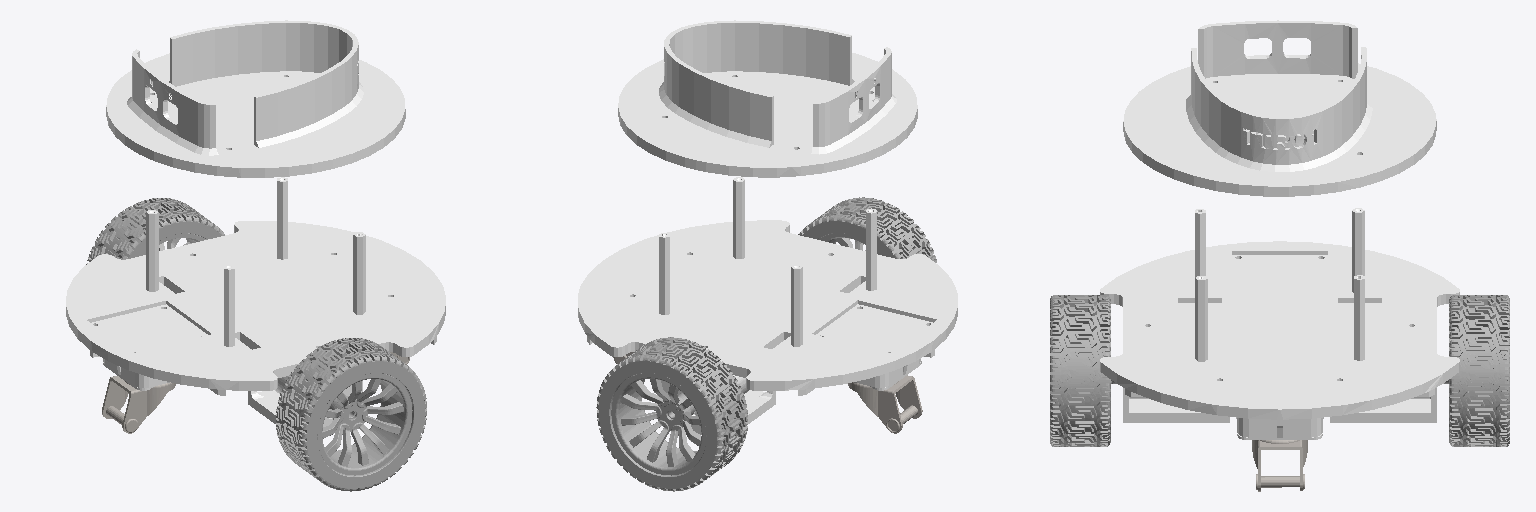
robot.urdf — TTR01:
<?xml version="1.0" encoding="utf-8"?>
<!-- This URDF was automatically created by SolidWorks to URDF Exporter! Originally created by [author] ([email redacted]) 
     Commit Version: 1.6.0-4-g7f85cfe  Build Version: 1.6.7995.38578
     For more information, please see http://wiki.ros.org/sw_urdf_exporter -->
<robot xmlns:xacro="http://www.ros.org/wiki/xacro" name="TTR01">

  <link
    name="base_link">
    <inertial>
      <origin
        xyz="0.00041523 3.8019E-10 -0.018258"
        rpy="0 0 0" />
      <mass
        value="0.68529" />
      <inertia
        ixx="0.00041086"
        ixy="-1.1043E-10"
        ixz="-2.371E-06"
        iyy="0.00051876"
        iyz="7.228E-12"
        izz="0.00084468" />
    </inertial>
    <visual>
      <origin
        xyz="0 0 0"
        rpy="0 0 0" />
      <geometry>
        <mesh
          filename="package://robot_pkg/meshes/base_link.STL" />
      </geometry>
      <material
        name="">
        <color
          rgba="1 1 1 1" />
      </material>
    </visual>
    <collision>
      <origin
        xyz="0 0 0"
        rpy="0 0 0" />
      <geometry>
        <mesh
          filename="package://robot_pkg/meshes/base_link.STL" />
      </geometry>
    </collision>
  </link>
  <link
    name="L_wheel_link">
    <inertial>
      <origin
        xyz="-5.629E-10 5.4357E-10 -0.015886"
        rpy="0 0 0" />
      <mass
        value="0.048724" />
      <inertia
        ixx="1.5816E-05"
        ixy="4.1458E-09"
        ixz="-1.7893E-13"
        iyy="1.5814E-05"
        iyz="1.7858E-13"
        izz="2.6155E-05" />
    </inertial>
    <visual>
      <origin
        xyz="0 0 0"
        rpy="0 0 0" />
      <geometry>
        <mesh
          filename="package://robot_pkg/meshes/L_wheel_link.STL" />
      </geometry>
      <material
        name="">
        <color
          rgba="0.75294 0.75294 0.75294 1" />
      </material>
    </visual>
    <collision>
      <origin
        xyz="0 0 0"
        rpy="0 0 0" />
      <geometry>
        <mesh
          filename="package://robot_pkg/meshes/L_wheel_link.STL" />
      </geometry>
    </collision>
  </link>
  <joint
    name="L_wheel_joint"
    type="continuous">
    <origin
      xyz="0 -0.071 -0.0225"
      rpy="-1.5708 0 0" />
    <parent
      link="base_link" />
    <child
      link="L_wheel_link" />
    <axis
      xyz="0 0 1" />
    <limit
      effort="0.323"
      velocity="10.47" />
  </joint>
  <link
    name="R_wheel_link">
    <inertial>
      <origin
        xyz="-4.8323E-10 -6.1547E-10 0.015886"
        rpy="0 0 0" />
      <mass
        value="0.048724" />
      <inertia
        ixx="1.5817E-05"
        ixy="-3.7851E-09"
        ixz="1.5281E-13"
        iyy="1.5813E-05"
        iyz="2.0138E-13"
        izz="2.6155E-05" />
    </inertial>
    <visual>
      <origin
        xyz="0 0 0"
        rpy="0 0 0" />
      <geometry>
        <mesh
          filename="package://robot_pkg/meshes/R_wheel_link.STL" />
      </geometry>
      <material
        name="">
        <color
          rgba="0.75294 0.75294 0.75294 1" />
      </material>
    </visual>
    <collision>
      <origin
        xyz="0 0 0"
        rpy="0 0 0" />
      <geometry>
        <mesh
          filename="package://robot_pkg/meshes/R_wheel_link.STL" />
      </geometry>
    </collision>
  </link>
  <joint
    name="R_wheel_joint"
    type="continuous">
    <origin
      xyz="0 0.071 -0.0225"
      rpy="-1.5708 0 0" />
    <parent
      link="base_link" />
    <child
      link="R_wheel_link" />
    <axis
      xyz="0 0 1" />
    <limit
      effort="0.323"
      velocity="10.47" />
  </joint>
  <link
    name="U_base_wheel_1_link">
    <inertial>
      <origin
        xyz="0.0041491 -8.4566E-05 0.0053957"
        rpy="0 0 0" />
      <mass
        value="0.009087" />
      <inertia
        ixx="5.254E-07"
        ixy="-4.3301E-10"
        ixz="-9.4848E-08"
        iyy="4.8759E-07"
        iyz="1.0854E-09"
        izz="7.6419E-07" />
    </inertial>
    <visual>
      <origin
        xyz="0 0 0"
        rpy="0 0 0" />
      <geometry>
        <mesh
          filename="package://robot_pkg/meshes/U_base_wheel_1_link.STL" />
      </geometry>
      <material
        name="">
        <color
          rgba="0.77647 0.75686 0.73725 1" />
      </material>
    </visual>
    <collision>
      <origin
        xyz="0 0 0"
        rpy="0 0 0" />
      <geometry>
        <mesh
          filename="package://robot_pkg/meshes/U_base_wheel_1_link.STL" />
      </geometry>
    </collision>
  </link>
  <joint
    name="U_base_wheel_1_joint"
    type="continuous">
    <origin
      xyz="0.057514 0 -0.0234"
      rpy="3.1416 0 0" />
    <parent
      link="base_link" />
    <child
      link="U_base_wheel_1_link" />
    <axis
      xyz="0 0 -1" />
    <limit
      effort="0.323"
      velocity="10.47" />
  </joint>
  <link
    name="U_wheel_1_link">
    <inertial>
      <origin
        xyz="0 0 0"
        rpy="0 0 0" />
      <mass
        value="0.0045951" />
      <inertia
        ixx="2.7312E-07"
        ixy="-2.2683E-23"
        ixz="-2.3051E-23"
        iyy="2.7312E-07"
        iyz="-8.8302E-23"
        izz="4.0127E-07" />
    </inertial>
    <visual>
      <origin
        xyz="0 0 0"
        rpy="0 0 0" />
      <geometry>
        <mesh
          filename="package://robot_pkg/meshes/U_wheel_1_link.STL" />
      </geometry>
      <material
        name="">
        <color
          rgba="1 1 1 1" />
      </material>
    </visual>
    <collision>
      <origin
        xyz="0 0 0"
        rpy="0 0 0" />
      <geometry>
        <mesh
          filename="package://robot_pkg/meshes/U_wheel_1_link.STL" />
      </geometry>
    </collision>
  </link>
  <joint
    name="U_wheel_1_joint"
    type="continuous">
    <origin
      xyz="0.015768 -0.00018037 0.019619"
      rpy="1.5822 -1.5708 0" />
    <parent
      link="U_base_wheel_1_link" />
    <child
      link="U_wheel_1_link" />
    <axis
      xyz="0 0 1" />
    <limit
      effort="0.323"
      velocity="10.47" />
  </joint>
  <link
    name="U_base_wheel_2_link">
    <inertial>
      <origin
        xyz="-0.0041491 8.4566E-05 0.0019957"
        rpy="0 0 0" />
      <mass
        value="0.009087" />
      <inertia
        ixx="5.254E-07"
        ixy="-4.3301E-10"
        ixz="9.4848E-08"
        iyy="4.8759E-07"
        iyz="-1.0854E-09"
        izz="7.6419E-07" />
    </inertial>
    <visual>
      <origin
        xyz="0 0 0"
        rpy="0 0 0" />
      <geometry>
        <mesh
          filename="package://robot_pkg/meshes/U_base_wheel_2_link.STL" />
      </geometry>
      <material
        name="">
        <color
          rgba="0.77647 0.75686 0.73725 1" />
      </material>
    </visual>
    <collision>
      <origin
        xyz="0 0 0"
        rpy="0 0 0" />
      <geometry>
        <mesh
          filename="package://robot_pkg/meshes/U_base_wheel_2_link.STL" />
      </geometry>
    </collision>
  </link>
  <joint
    name="U_base_wheel_2_joint"
    type="continuous">
    <origin
      xyz="-0.057514 0 -0.0268"
      rpy="3.1416 0 0" />
    <parent
      link="base_link" />
    <child
      link="U_base_wheel_2_link" />
    <axis
      xyz="0 0 -1" />
    <limit
      effort="0.323"
      velocity="10.47" />
  </joint>
  <link
    name="U_wheel_2_link">
    <inertial>
      <origin
        xyz="0 1.3878E-17 -8.6736E-19"
        rpy="0 0 0" />
      <mass
        value="0.0045951" />
      <inertia
        ixx="2.7312E-07"
        ixy="4.1047E-23"
        ixz="1.9175E-23"
        iyy="2.7312E-07"
        iyz="-7.2378E-23"
        izz="4.0127E-07" />
    </inertial>
    <visual>
      <origin
        xyz="0 0 0"
        rpy="0 0 0" />
      <geometry>
        <mesh
          filename="package://robot_pkg/meshes/U_wheel_2_link.STL" />
      </geometry>
      <material
        name="">
        <color
          rgba="1 1 1 1" />
      </material>
    </visual>
    <collision>
      <origin
        xyz="0 0 0"
        rpy="0 0 0" />
      <geometry>
        <mesh
          filename="package://robot_pkg/meshes/U_wheel_2_link.STL" />
      </geometry>
    </collision>
  </link>
  <joint
    name="U_wheel_2_joint"
    type="continuous">
    <origin
      xyz="-0.015768 0.00018037 0.016219"
      rpy="1.5822 -1.5708 0" />
    <parent
      link="U_base_wheel_2_link" />
    <child
      link="U_wheel_2_link" />
    <axis
      xyz="0 0 1" />
    <limit
      effort="0.323"
      velocity="10.47" />
  </joint>
  <link
    name="Support_A_link">
    <inertial>
      <origin
        xyz="0 0 0"
        rpy="0 0 0" />
      <mass
        value="0" />
      <inertia
        ixx="0"
        ixy="0"
        ixz="0"
        iyy="0"
        iyz="0"
        izz="0" />
    </inertial>
    <visual>
      <origin
        xyz="0 0 0"
        rpy="0 0 0" />
      <geometry>
        <mesh
          filename="package://robot_pkg/meshes/Support_A_link.STL" />
      </geometry>
      <material
        name="">
        <color
          rgba="1 1 1 1" />
      </material>
    </visual>
    <collision>
      <origin
        xyz="0 0 0"
        rpy="0 0 0" />
      <geometry>
        <mesh
          filename="package://robot_pkg/meshes/Support_A_link.STL" />
      </geometry>
    </collision>
  </link>
  <joint
    name="Support_A_joint"
    type="fixed">
    <origin
      xyz="0 0 0.02"
      rpy="0 0 0" />
    <parent
      link="base_link" />
    <child
      link="Support_A_link" />
    <axis
      xyz="0 0 0" />
  </joint>
  <link
    name="M_base_link">
    <inertial>
      <origin
        xyz="2.0673E-17 0.00022336 -0.0025145"
        rpy="0 0 0" />
      <mass
        value="0.058516" />
      <inertia
        ixx="9.721E-05"
        ixy="1.6542E-21"
        ixz="3.1135E-22"
        iyy="9.3239E-05"
        iyz="-5.8008E-09"
        izz="0.0001902" />
    </inertial>
    <visual>
      <origin
        xyz="0 0 0"
        rpy="0 0 0" />
      <geometry>
        <mesh
          filename="package://robot_pkg/meshes/M_base_link.STL" />
      </geometry>
      <material
        name="">
        <color
          rgba="0.11373 0.11373 0.11373 1" />
      </material>
    </visual>
    <collision>
      <origin
        xyz="0 0 0"
        rpy="0 0 0" />
      <geometry>
        <mesh
          filename="package://robot_pkg/meshes/M_base_link.STL" />
      </geometry>
    </collision>
  </link>
  <joint
    name="M_base_joint"
    type="fixed">
    <origin
      xyz="0 0 0.025"
      rpy="0 0 0" />
    <parent
      link="Support_A_link" />
    <child
      link="M_base_link" />
    <axis
      xyz="0 0 0" />
  </joint>
  <link
    name="Support_B_link">
    <inertial>
      <origin
        xyz="-0.011902 0.011666 -0.0036221"
        rpy="0 0 0" />
      <mass
        value="0.02878" />
      <inertia
        ixx="1.1292E-06"
        ixy="-1.0751E-12"
        ixz="2.9227E-11"
        iyy="1.1292E-06"
        iyz="1.8804E-11"
        izz="1.0391E-07" />
    </inertial>
    <visual>
      <origin
        xyz="0 0 0"
        rpy="0 0 0" />
      <geometry>
        <mesh
          filename="package://robot_pkg/meshes/Support_B_link.STL" />
      </geometry>
      <material
        name="">
        <color
          rgba="0.75294 0.75294 0.75294 1" />
      </material>
    </visual>
    <collision>
      <origin
        xyz="0 0 0"
        rpy="0 0 0" />
      <geometry>
        <mesh
          filename="package://robot_pkg/meshes/Support_B_link.STL" />
      </geometry>
    </collision>
  </link>
  <joint
    name="Support_B_joint"
    type="fixed">
    <origin
      xyz="0 0 0.0255"
      rpy="0 0 0" />
    <parent
      link="M_base_link" />
    <child
      link="Support_B_link" />
    <axis
      xyz="0 0 0" />
  </joint>
  <link
    name="T_base_link">
    <inertial>
      <origin
        xyz="0.0001592 -9.7064E-06 -2.3829E-05"
        rpy="0 0 0" />
      <mass
        value="0.11503" />
      <inertia
        ixx="0.00013683"
        ixy="-1.5545E-07"
        ixz="-1.9179E-07"
        iyy="0.0001469"
        iyz="-9.5363E-09"
        izz="0.00027425" />
    </inertial>
    <visual>
      <origin
        xyz="0 0 0"
        rpy="0 0 0" />
      <geometry>
        <mesh
          filename="package://robot_pkg/meshes/T_base_link.STL" />
      </geometry>
      <material
        name="">
        <color
          rgba="1 1 1 1" />
      </material>
    </visual>
    <collision>
      <origin
        xyz="0 0 0"
        rpy="0 0 0" />
      <geometry>
        <mesh
          filename="package://robot_pkg/meshes/T_base_link.STL" />
      </geometry>
    </collision>
  </link>
  <joint
    name="T_base_joint"
    type="fixed">
    <origin
      xyz="0 0 0.0305"
      rpy="0 0 0" />
    <parent
      link="Support_B_link" />
    <child
      link="T_base_link" />
    <axis
      xyz="0 0 0" />
  </joint>
</robot>

--- Render facts (derived) ---
Views: 3 orthographic renders of the robot side by side, from view 1: azimuth 30°, elevation 25°; view 2: azimuth 150°, elevation 25°; view 3: azimuth 270°, elevation 25°.
Robot: TTR01 — 11 links, 10 joints (6 continuous, 4 fixed); root link base_link; default pose: every joint at zero.
Visible links, largest first — view 1: base_link, T_base_link, L_wheel_link, R_wheel_link, Support_A_link, U_base_wheel_2_link; view 2: base_link, T_base_link, R_wheel_link, L_wheel_link, Support_A_link, U_base_wheel_2_link; view 3: base_link, T_base_link, R_wheel_link, L_wheel_link, Support_A_link, U_base_wheel_1_link.
Link boxes in pixels (box(x1,y1,x2,y2)): base_link: box(66, 221, 445, 426); T_base_link: box(106, 20, 405, 177); L_wheel_link: box(276, 338, 426, 491); R_wheel_link: box(86, 198, 224, 264); Support_A_link: box(146, 177, 365, 346); U_base_wheel_2_link: box(102, 376, 175, 433); base_link: box(578, 220, 957, 434); T_base_link: box(618, 20, 917, 177); R_wheel_link: box(596, 337, 747, 491); L_wheel_link: box(798, 197, 936, 262); Support_A_link: box(659, 177, 876, 346); U_base_wheel_2_link: box(848, 375, 922, 433); base_link: box(1100, 241, 1459, 439); T_base_link: box(1123, 20, 1436, 196); R_wheel_link: box(1444, 295, 1509, 446); L_wheel_link: box(1050, 295, 1115, 446); Support_A_link: box(1195, 208, 1364, 361); U_base_wheel_1_link: box(1252, 440, 1307, 491).
Size in the robot's own frame: 0.178 by 0.2055 by 0.1825 metres.
Meshes: 11 distinct files referenced, 7 mesh visuals loaded (7 binary STL); not drawn: 4 (file found but could not be loaded).